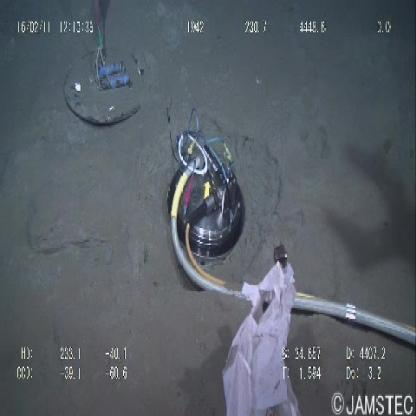Rov: (164, 91, 245, 303), (60, 2, 152, 132)
Rác: (221, 257, 297, 416)
